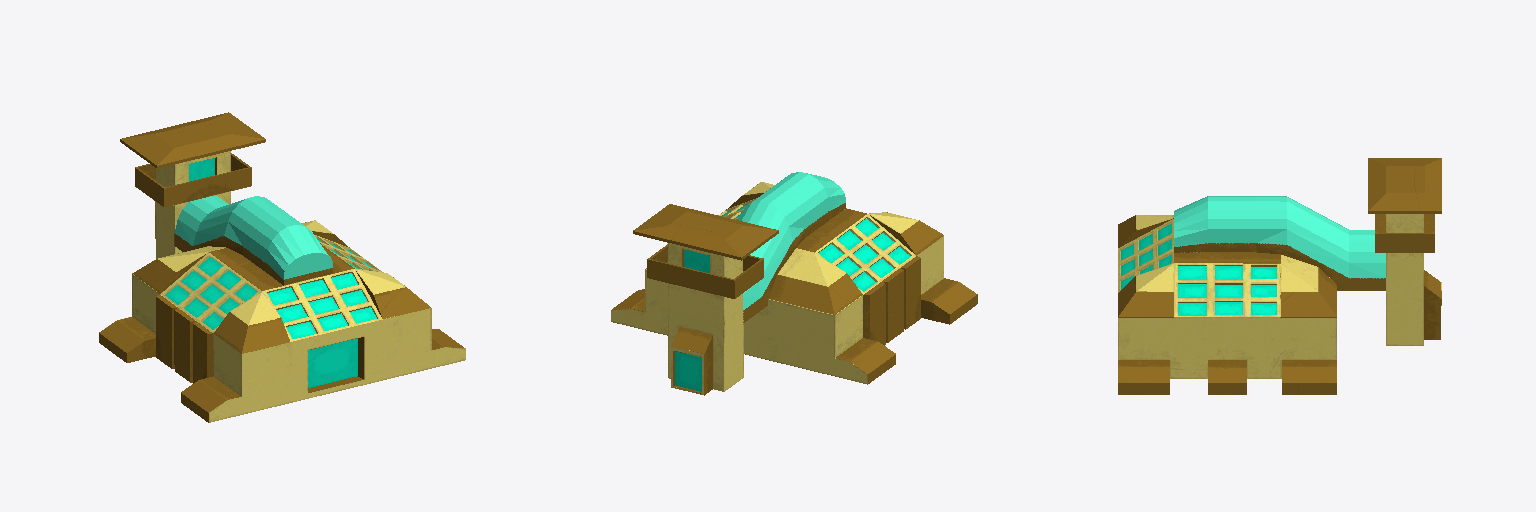
3 views of the same model, side by side, from view 1: azimuth 30°, elevation 25°; view 2: azimuth 150°, elevation 25°; view 3: azimuth 270°, elevation 25° (orthographic).
Parts seen in each view (by area): view 1: drorania_barrack; view 2: drorania_barrack; view 3: drorania_barrack.
Part boxes in pixels (bbox=[...]): drorania_barrack: bbox=[99, 112, 465, 422]; drorania_barrack: bbox=[611, 172, 977, 395]; drorania_barrack: bbox=[1118, 158, 1441, 394].
Size of the model in its own units: 281 by 159 by 306.
Materials: 1 (1 with a texture image).